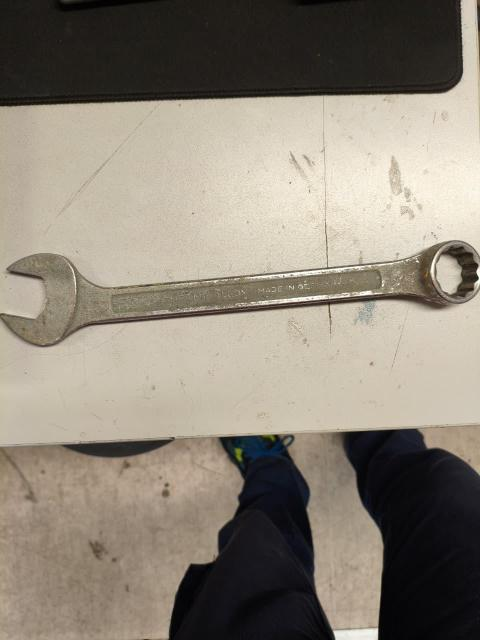Metal: (0, 252, 480, 328)
